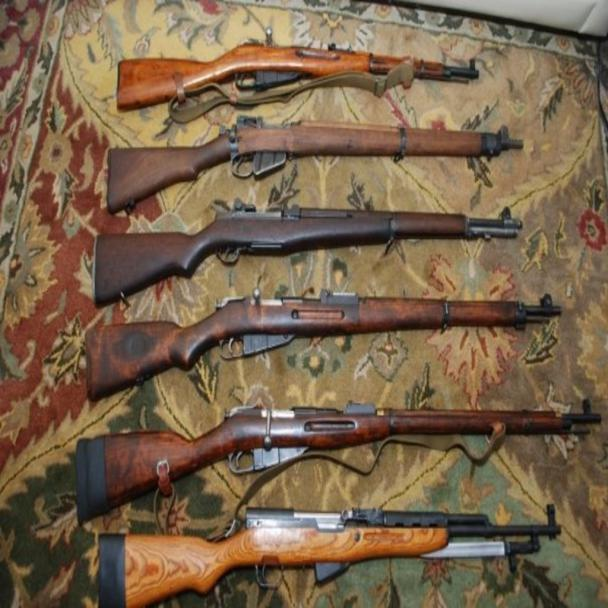Gun: (65, 394, 595, 526), (53, 501, 576, 608), (82, 292, 562, 396), (84, 205, 538, 304), (103, 114, 528, 208), (112, 38, 487, 110)
